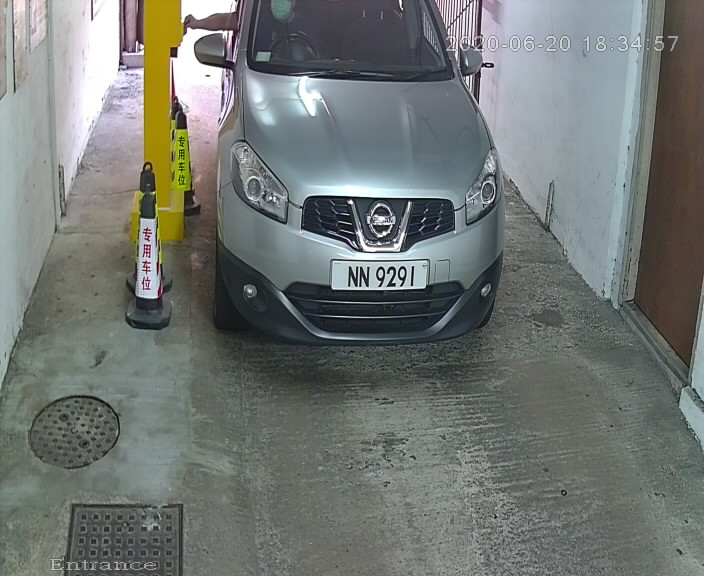privatecar: (170, 1, 562, 368)
